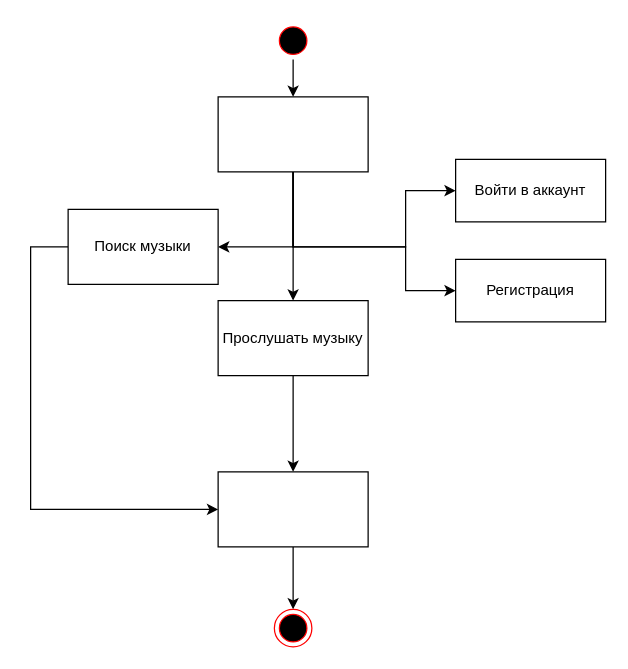
This 628x669 diagram has some shape labels left out. The shapes that lost their labels are listed below. From the top down, each one's centre as x and y in pixels, then its label:
[292,134]: Запуск приложения
[292,509]: Выйти из приложения
